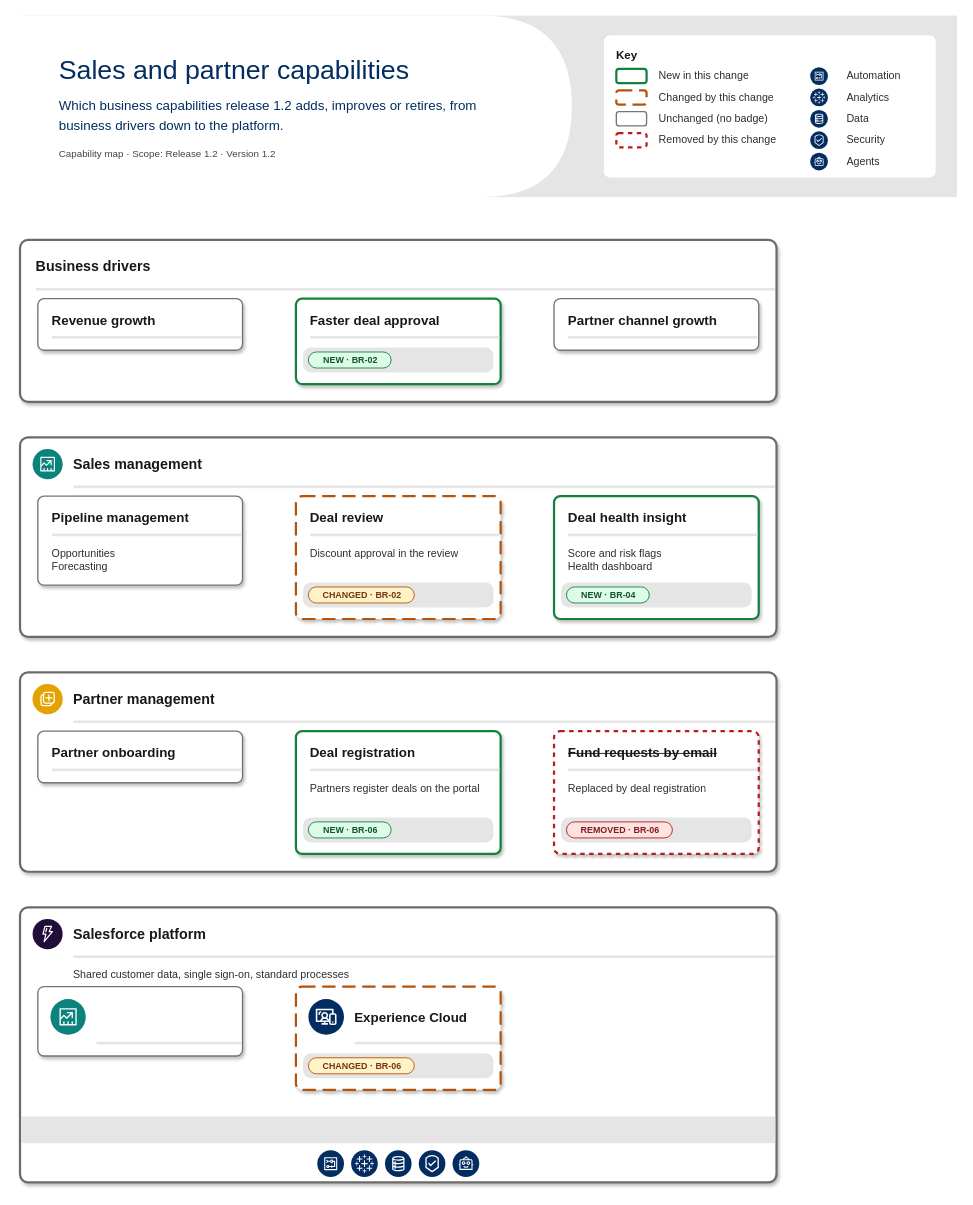
The diagram is 973 pixels wide and 1205 high, and some of its shapes have lost their labels. The centre of each missing label's shape, as x and y in pixels:
"Platform services" goes at point 398,1129.
"Sales Cloud" goes at point 140,1022.
